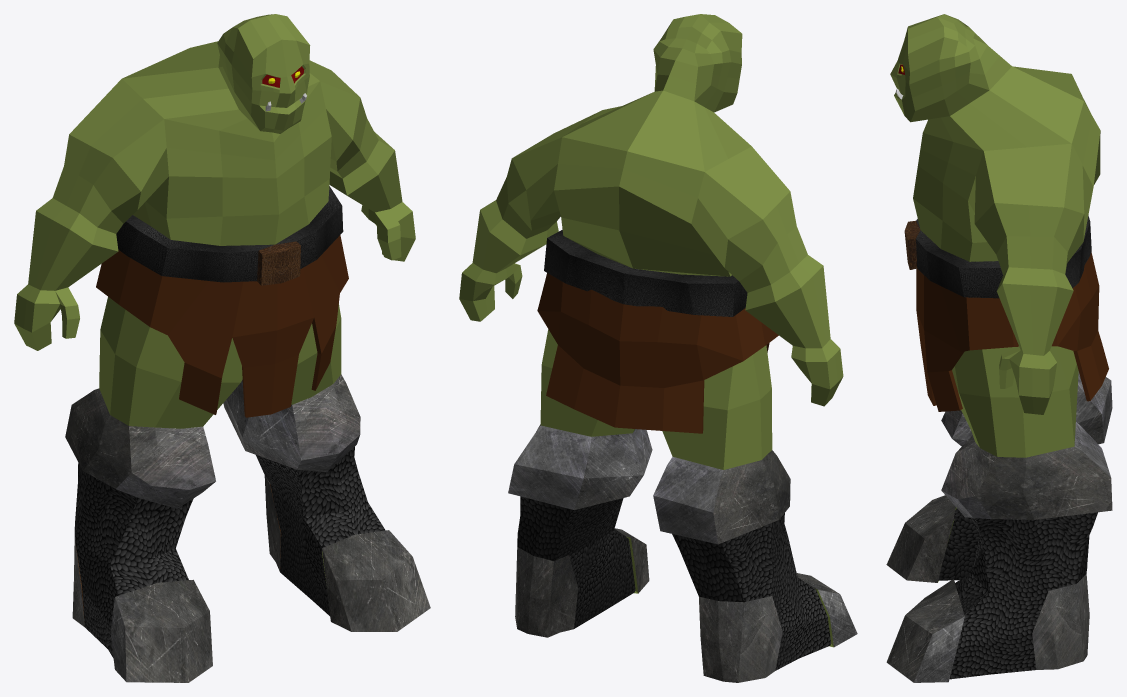
The model's file is orc.fbx.
3 views of the same model, side by side, from view 1: azimuth 30°, elevation 25°; view 2: azimuth 150°, elevation 25°; view 3: azimuth 270°, elevation 25° (orthographic). The views are drawn at different scales.
Visible parts, largest first — view 1: Plane; view 2: Plane; view 3: Plane.
Boxes of the visible parts, x1,y1,x2,y2 form: Plane: [14, 14, 430, 682]; Plane: [459, 14, 857, 682]; Plane: [886, 14, 1112, 682].
Size of the model in its own units: 254 by 389 by 133.
Materials: 9 (5 with a texture image).
